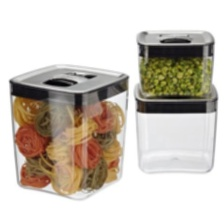plastic_box: (3, 58, 133, 204), (130, 77, 222, 178), (131, 24, 220, 102)
